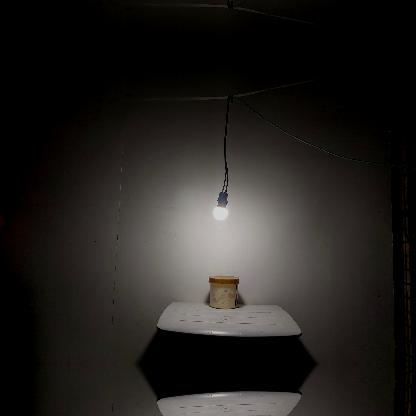Lady-s-Choice: (208, 275, 240, 309)
